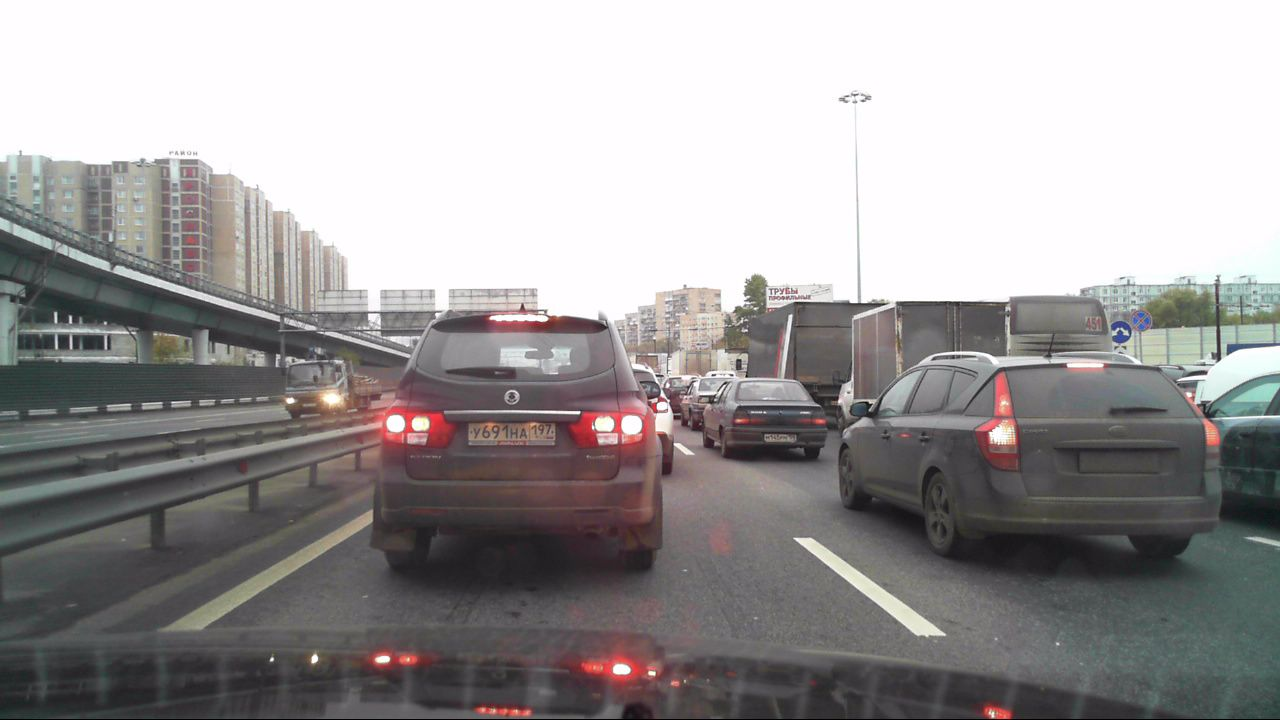No Parking: (1130, 309, 1151, 332)
